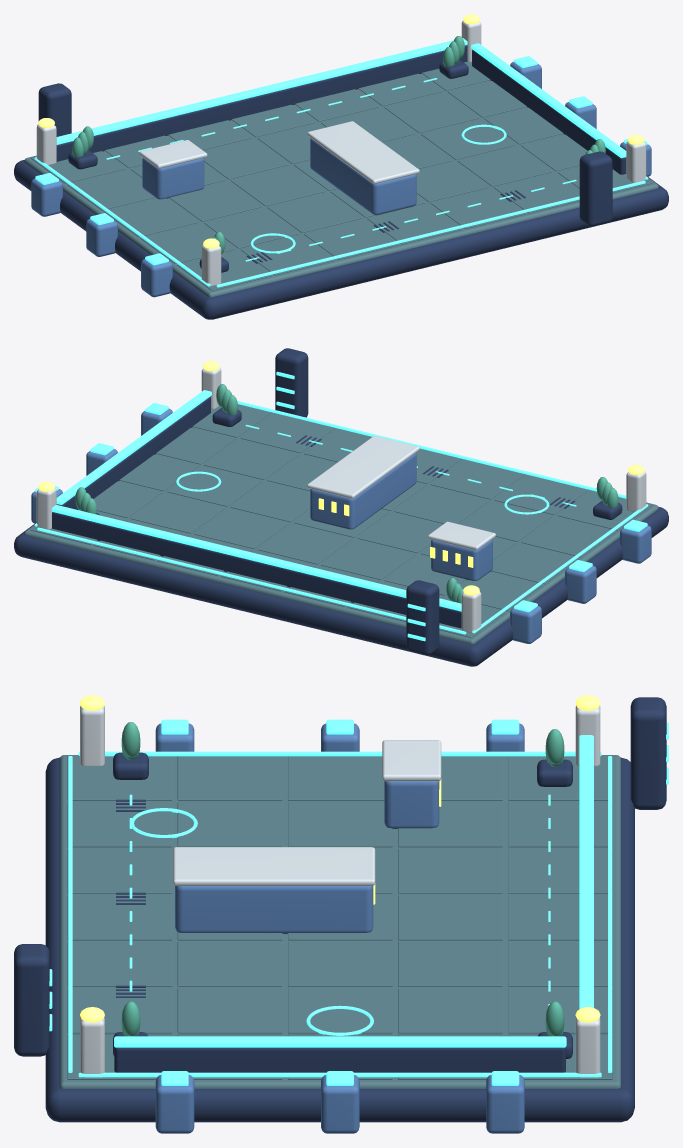
Rendered from reactor.glb.
The picture shows the model from 3 angles, top to bottom: view 1: azimuth 30°, elevation 25°; view 2: azimuth 150°, elevation 25°; view 3: azimuth 270°, elevation 25°; orthographic projection. The views are drawn at different scales.
Parts seen in each view (by area): view 1: Floating foundation, Arena floor, Reflector base, Cover cap, Cover, Reflector beam, Reflector base.001, Service tower.001, Floor panel.012, Floor panel.013, Floor panel.028, Floor panel.026 (+41 smaller); view 2: Floating foundation, Arena floor, Reflector base, Cover cap, Reflector beam, Cover, Reflector base.001, Service tower, Floor panel.016, Floor panel.026, Floor panel.028, Floor panel.011 (+40 smaller); view 3: Floating foundation, Arena floor, Reflector base.001, Cover, Cover cap, Reflector beam.001, Floor panel.023, Floor panel.028, Floor panel.011, Floor panel.026, Floor panel.016, Floor panel.021 (+46 smaller).
Part boxes in pixels (x1,y1,x2,y2): Floating foundation: [14, 160, 668, 319]; Arena floor: [24, 73, 658, 297]; Reflector base: [56, 45, 467, 161]; Cover cap: [307, 121, 419, 183]; Cover: [310, 138, 416, 215]; Reflector beam: [56, 38, 467, 144]; Reflector base.001: [472, 49, 626, 174]; Service tower.001: [579, 151, 612, 226]; Floor panel.012: [230, 165, 325, 206]; Floor panel.013: [267, 192, 361, 232]; Floor panel.028: [457, 146, 552, 186]; Floor panel.026: [384, 92, 478, 132]; Floating foundation: [14, 506, 668, 666]; Arena floor: [24, 412, 658, 644]; Reflector base: [52, 512, 461, 628]; Cover cap: [307, 436, 419, 498]; Reflector beam: [51, 504, 461, 611]; Cover: [310, 453, 416, 529]; Reflector base.001: [56, 396, 210, 509]; Service tower: [406, 580, 439, 655]; Floor panel.016: [257, 524, 351, 564]; Floor panel.026: [130, 493, 224, 533]; Floor panel.028: [204, 439, 298, 479]; Floor panel.011: [321, 539, 415, 579]; Floating foundation: [45, 757, 634, 1122]; Arena floor: [59, 755, 620, 1088]; Reflector base.001: [114, 1047, 565, 1072]; Cover: [175, 886, 373, 933]; Cover cap: [173, 847, 375, 885]; Reflector beam.001: [114, 1036, 566, 1047]; Floor panel.023: [177, 941, 282, 986]; Floor panel.028: [177, 988, 282, 1033]; Floor panel.011: [398, 848, 502, 893]; Floor panel.026: [398, 988, 502, 1033]; Floor panel.016: [398, 895, 502, 940]; Floor panel.021: [398, 941, 502, 986].
Size of the model in its own units: 15.8 by 2.35 by 11.89.
